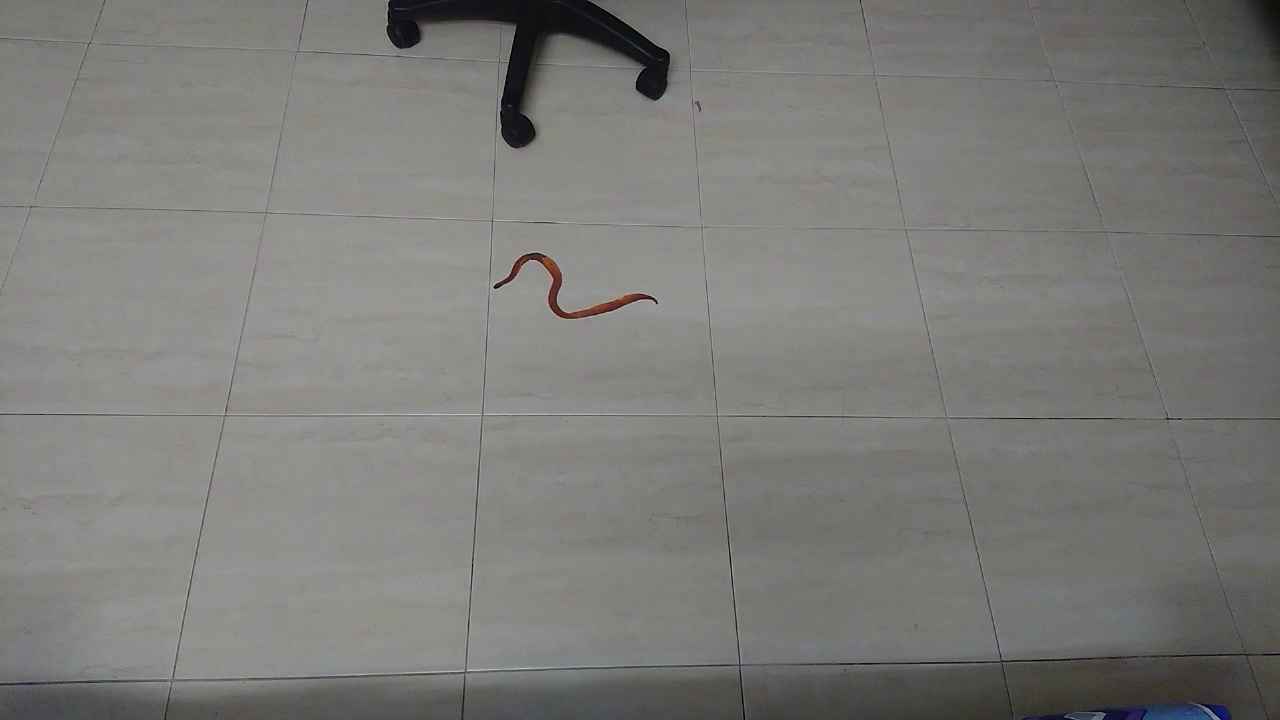snake: (466, 231, 679, 332)
